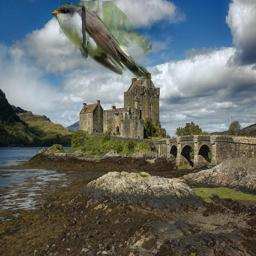Cuckoo: (52, 1, 152, 79)
